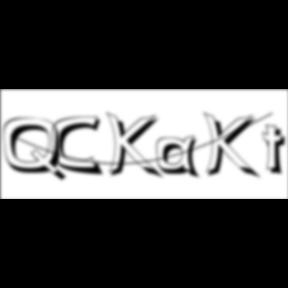C: (52, 115, 106, 178)
K: (106, 110, 166, 182), (204, 110, 262, 182)
Q: (4, 117, 70, 184)
a: (157, 135, 205, 182)
